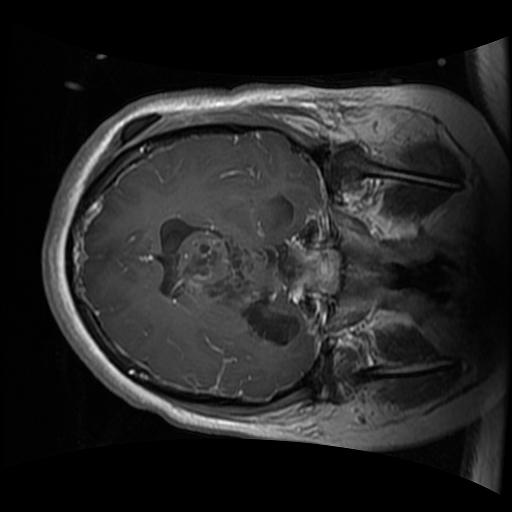glioma: (149, 215, 302, 347)
